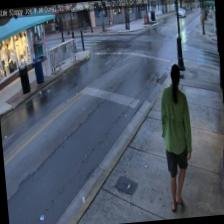person: (156, 63, 198, 211)
